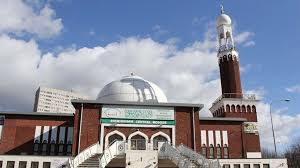Mosque: (18, 7, 267, 165)
